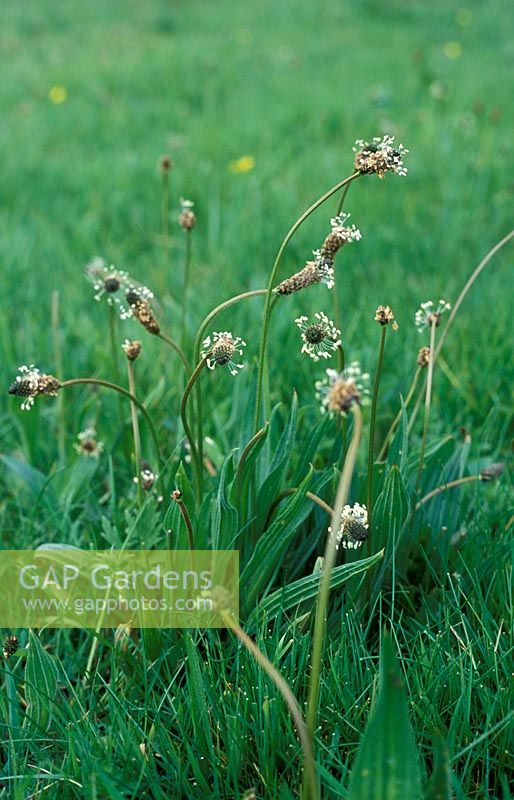buckhorn plantain: (36, 142, 477, 621)
